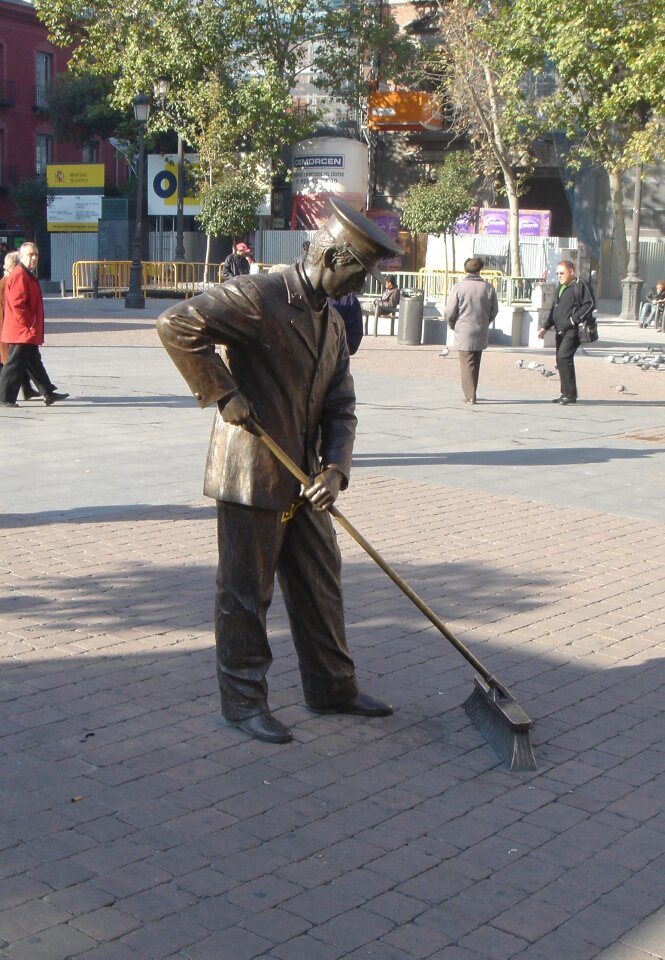person: (1, 239, 78, 403), (538, 257, 613, 403), (448, 255, 513, 404)
